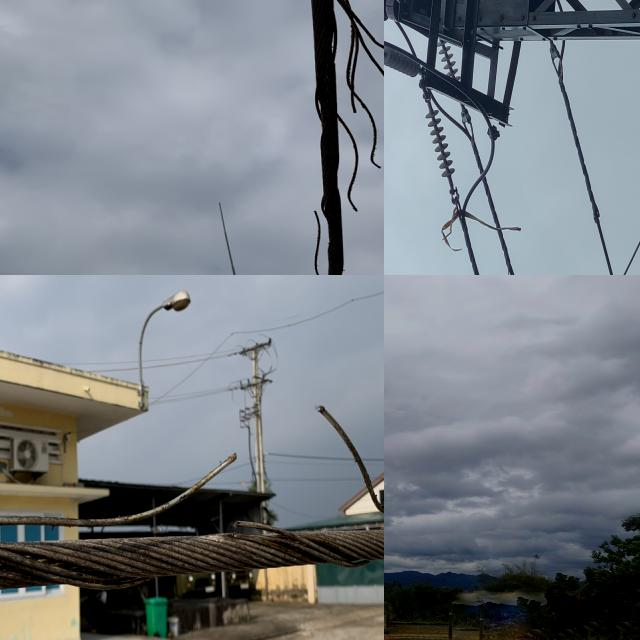正常绝缘子: (404, 56, 443, 118)
电缆破损: (0, 432, 257, 604), (242, 0, 384, 275), (303, 390, 384, 519)
